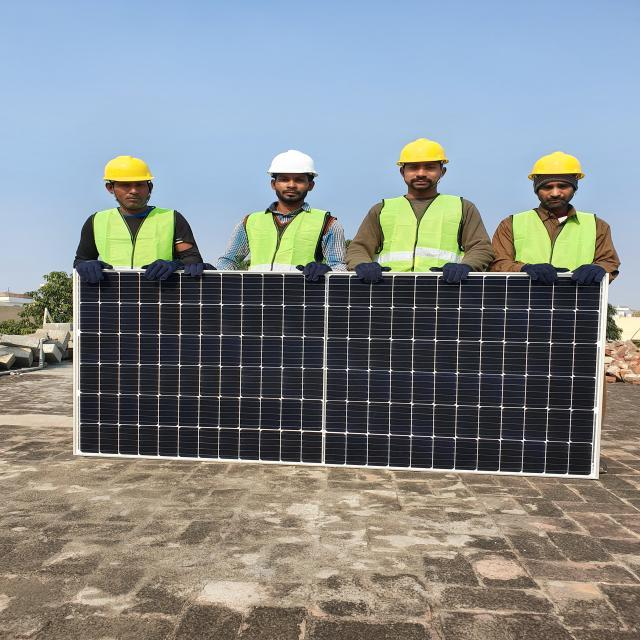helmet: (393, 129, 453, 177), (532, 149, 594, 190), (103, 143, 157, 186), (276, 148, 318, 183)
jacket: (246, 211, 337, 283), (387, 194, 469, 270), (103, 208, 177, 288), (523, 212, 597, 277)
